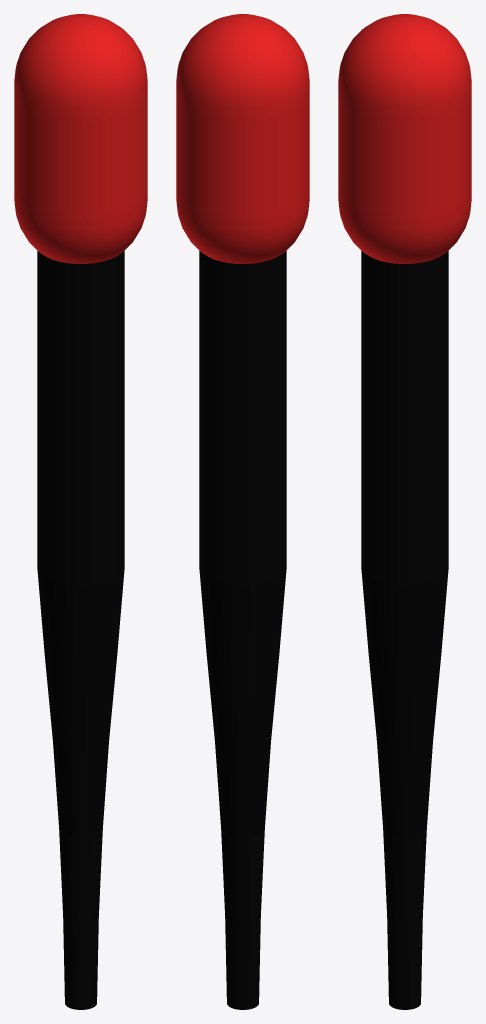
Rendered from dropper.fbx.
The picture shows the model from 3 angles, left to right: view 1: azimuth 30°, elevation 25°; view 2: azimuth 150°, elevation 25°; view 3: azimuth 330°, elevation 25°; orthographic projection.
Parts seen in each view (by area): view 1: pipe, head; view 2: pipe, head; view 3: pipe, head.
Boxes of the visible parts, box(x1,y1,x2,y2) form: pipe: box(37, 251, 124, 1009); head: box(14, 14, 147, 263); pipe: box(199, 251, 286, 1009); head: box(176, 14, 309, 263); pipe: box(361, 251, 448, 1009); head: box(338, 14, 471, 263).
Bounding box in the file's own units: 14.64 × 119 × 14.64.
